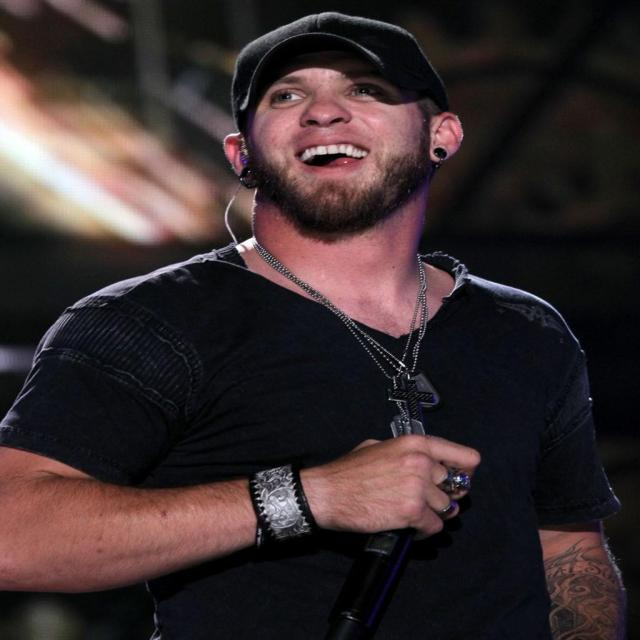Face: (252, 71, 421, 235)
